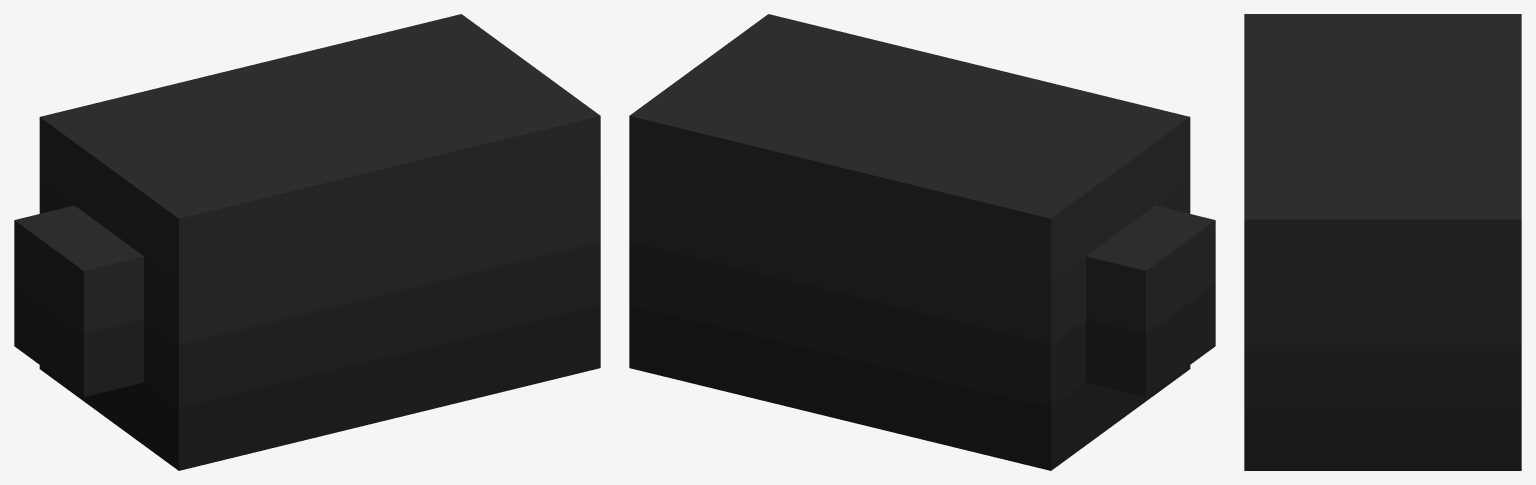
Rendered from Shoulder053.fbx.
3 renders of one model, left to right at view 1: azimuth 30°, elevation 25°; view 2: azimuth 150°, elevation 25°; view 3: azimuth 270°, elevation 25°, orthographic.
Parts seen in each view (by area): view 1: Shoulder053; view 2: Shoulder053; view 3: Shoulder053.
Boxes of the visible parts, box(x1,y1,x2,y2) form: Shoulder053: box(14, 14, 600, 470); Shoulder053: box(629, 14, 1215, 470); Shoulder053: box(1244, 14, 1521, 470).
Bounding box in the file's own units: 8 × 4 × 4.
